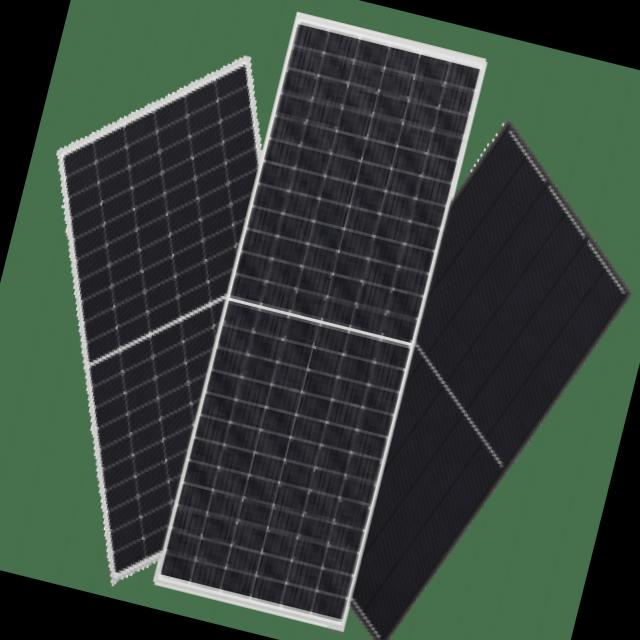no faulty: (167, 26, 481, 619), (354, 136, 624, 634), (68, 63, 264, 560)
